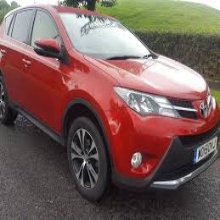no damage: (1, 5, 219, 200)
